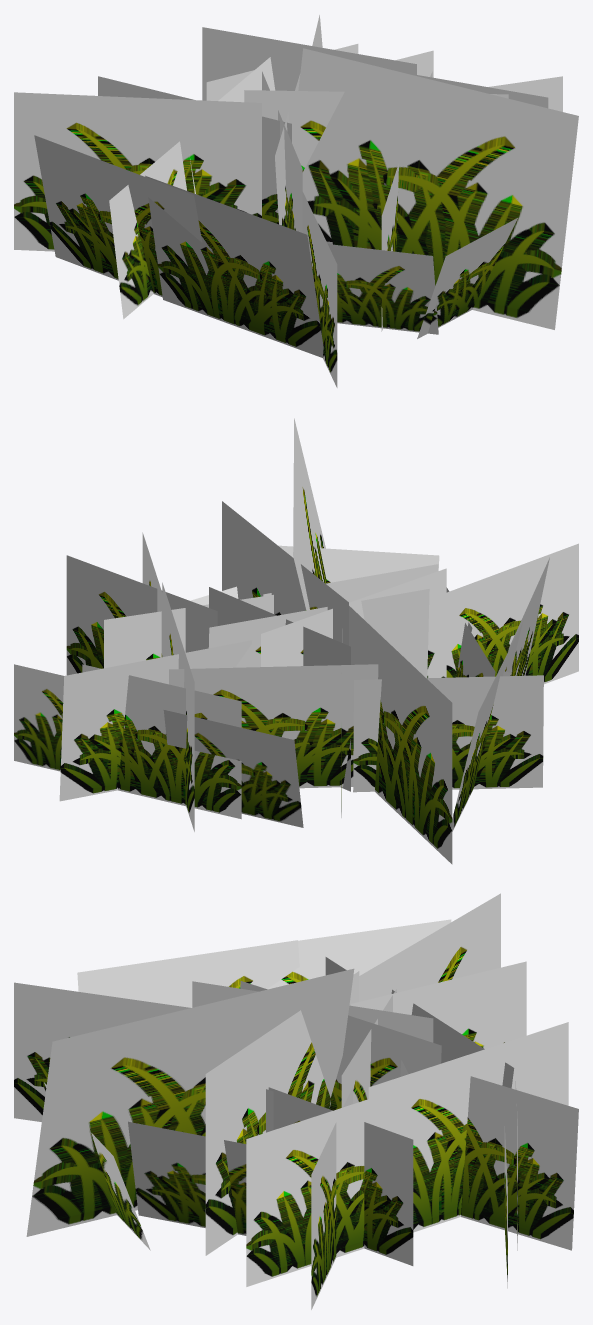
The model's file is high_grass_05.gltf.
3 renders of one model, top to bottom at view 1: azimuth 30°, elevation 25°; view 2: azimuth 150°, elevation 25°; view 3: azimuth 270°, elevation 25°, orthographic. The views are drawn at different scales.
Parts seen in each view (by area): view 1: default; view 2: default; view 3: default.
Boxes of the visible parts, <box> form: default: <box>14,15,578,387</box>; default: <box>14,418,578,864</box>; default: <box>14,893,578,1309</box>.
Bounding box in the file's own units: 1.91 × 0.7728 × 1.84.
Materials: 1 (1 with a texture image).
